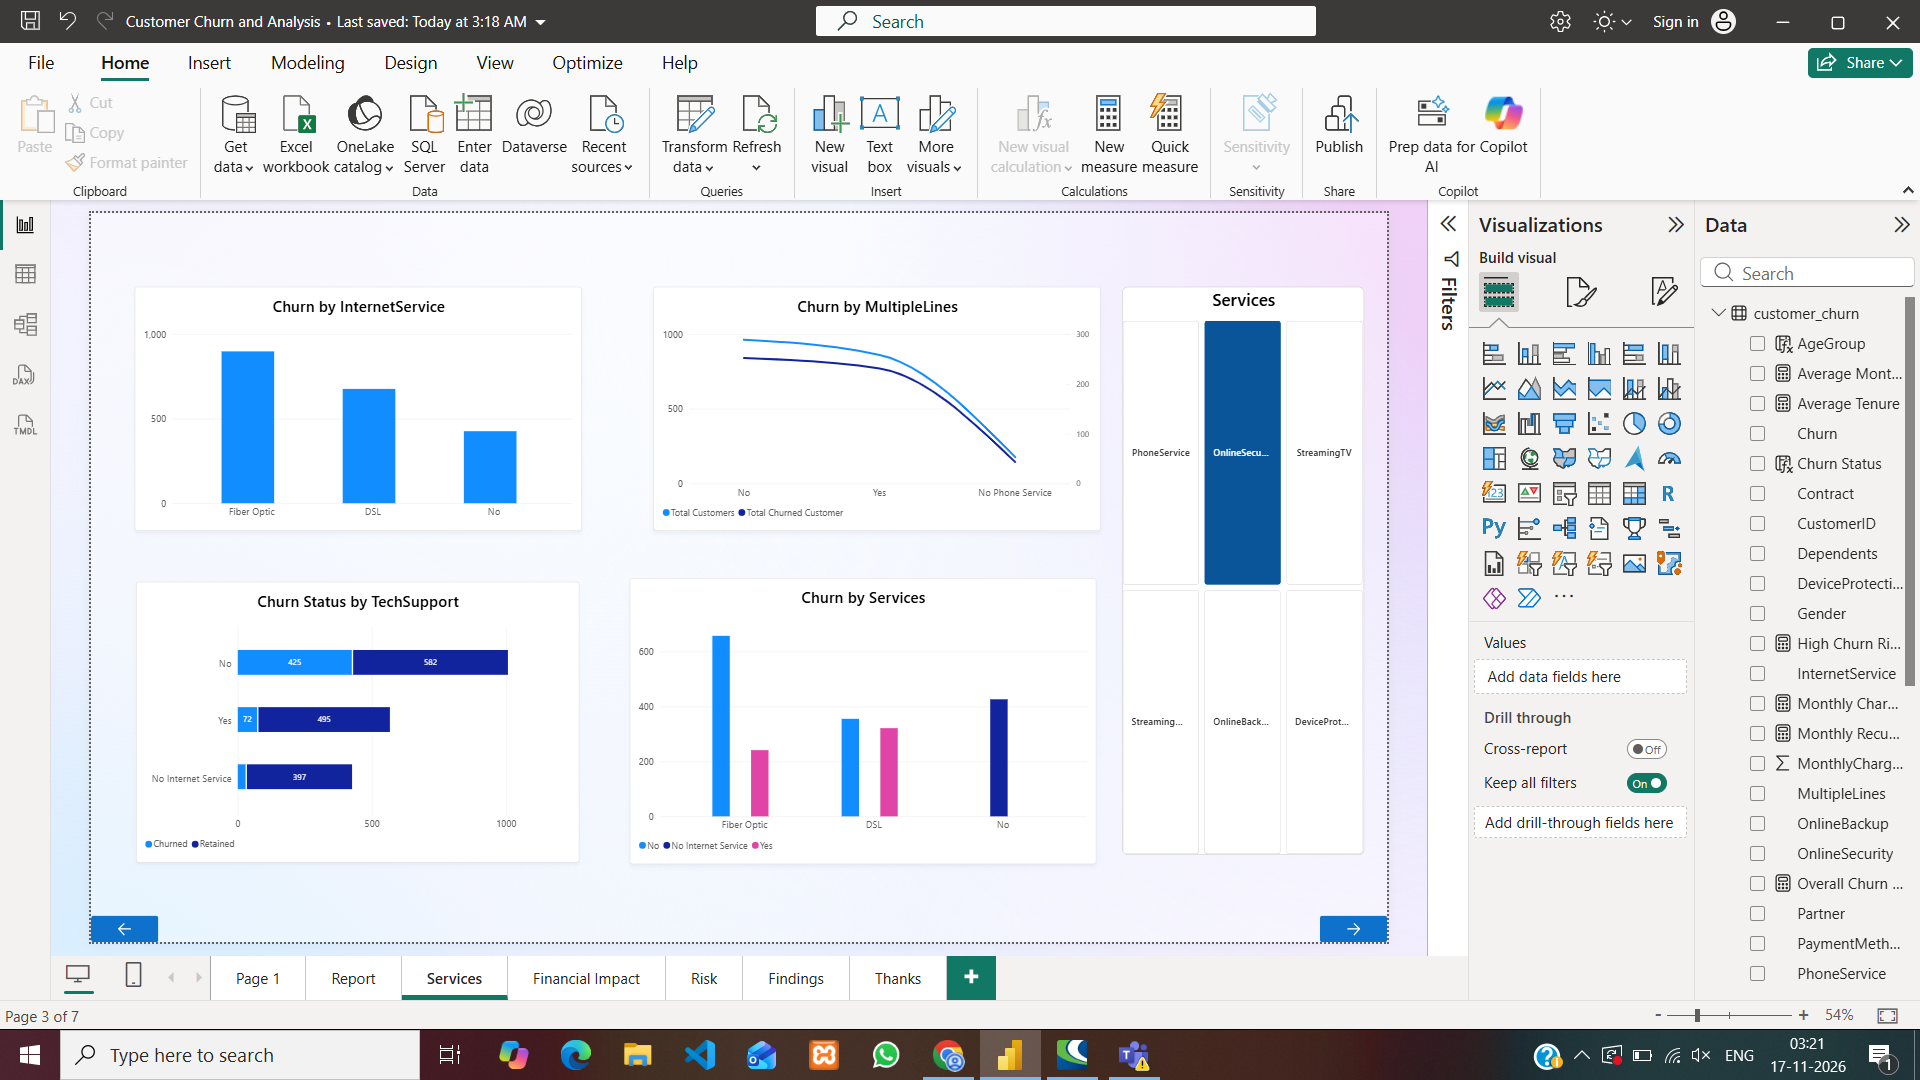

The page's visual inventory and layout, read from the dashboard file:
{"tool":"powerbi","page":{"name":"Services","canvas":[1920,1080],"ordinal":2},"visuals":[{"type":"clusteredColumnChart","title":"Churn by Services","fields":{"Category":["customer_churn.InternetService"],"Series":["customer_churn.DeviceProtection"],"Y":["CountNonNull(customer_churn.CustomerID)"]},"box":[798.2,540,690.9,423.6],"z":0},{"type":"lineChart","title":"Churn Status by TechSupport","fields":{"Category":["customer_churn.TechSupport"],"Series":["customer_churn.Churn Status"],"Y":["customer_churn.Total Customers"]},"box":[67,546.5,656.9,416.2],"z":1000},{"type":"clusteredColumnChart","title":"Churn by InternetService","fields":{"Category":["customer_churn.InternetService"],"Y":["CountNonNull(customer_churn.Churn)"]},"box":[65.1,108.6,662.3,361.9],"z":2000},{"type":"advancedSlicerVisual","title":"Services","fields":{"Values":["service.service"]},"box":[1527.3,109.1,358.2,841.8],"z":3000},{"type":"lineChart","title":"Churn by MultipleLines","fields":{"Category":["customer_churn.MultipleLines"],"Y":["customer_churn.Total Customers"],"Y2":["customer_churn.Total Churned Customer"]},"box":[832.4,108.6,662.3,361.9],"z":4000},{"type":"actionButton","box":[1820.5,1040.6,100,40],"z":5000},{"type":"actionButton","box":[0,1040.6,100,40],"z":6000}]}

Visuals, with their boxes on the page's 1920x1080 design canvas (x1, y1, x2, y2). These are canvas units, not pixel positions in the 1920x1080 screenshot, which may show the page scaled, cropped or inside an application window:
"Churn by Services" clusteredColumnChart: 798, 540, 1489, 964
"Churn Status by TechSupport" lineChart: 67, 546, 724, 963
"Churn by InternetService" clusteredColumnChart: 65, 109, 727, 470
"Services" advancedSlicerVisual: 1527, 109, 1886, 951
"Churn by MultipleLines" lineChart: 832, 109, 1495, 470
actionButton: 1820, 1041, 1920, 1081
actionButton: 0, 1041, 100, 1081
